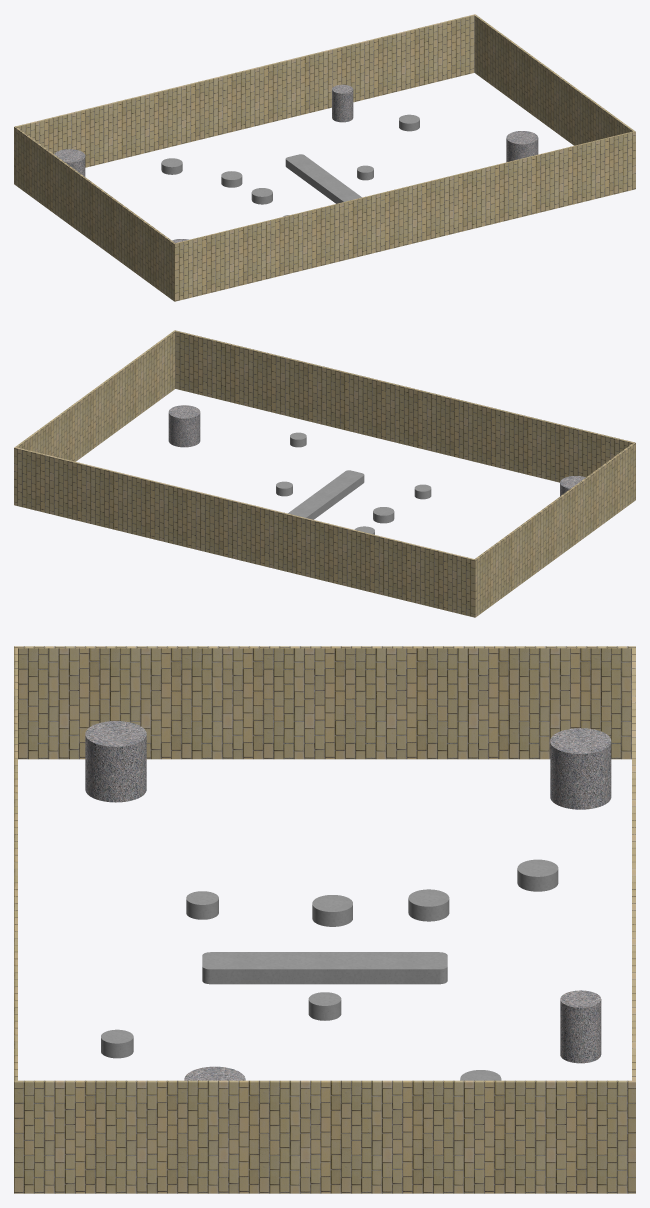
The model's file is envD.dae.
3 renders of one model, top to bottom at view 1: azimuth 30°, elevation 25°; view 2: azimuth 150°, elevation 25°; view 3: azimuth 270°, elevation 25°, orthographic. The views are drawn at different scales.
Parts seen in each view (by area): view 1: stitch_result_stitchFBXASC032all_ncl1_8, stitch_result_stitchFBXASC032all_ncl1_1, stitch_result_stitchFBXASC032all_ncl1_2, stitch_result_stitchFBXASC032all_ncl1_4, stitch_result_stitchFBXASC032all_ncl1_7; view 2: stitch_result_stitchFBXASC032all_ncl1_8, stitch_result_stitchFBXASC032all_ncl1_1, stitch_result_stitchFBXASC032all_ncl1_2; view 3: stitch_result_stitchFBXASC032all_ncl1_8, stitch_result_stitchFBXASC032all_ncl1_1, stitch_result_stitchFBXASC032all_ncl1_7, stitch_result_stitchFBXASC032all, stitch_result_stitchFBXASC032all_ncl1_4, stitch_result_stitchFBXASC032all_ncl1_9, stitch_result_stitchFBXASC032all_ncl1_5, stitch_result_stitchFBXASC032all_ncl1_10, stitch_result_stitchFBXASC032all_ncl1_6, stitch_result_stitchFBXASC032all_ncl1_12, stitch_result_stitchFBXASC032all_ncl1_11.
Boxes of the visible parts, bbox=[...] form: stitch_result_stitchFBXASC032all_ncl1_8: bbox=[14, 14, 635, 301]; stitch_result_stitchFBXASC032all_ncl1_1: bbox=[285, 154, 361, 203]; stitch_result_stitchFBXASC032all_ncl1_2: bbox=[506, 131, 538, 162]; stitch_result_stitchFBXASC032all_ncl1_4: bbox=[332, 84, 353, 122]; stitch_result_stitchFBXASC032all_ncl1_7: bbox=[54, 149, 85, 176]; stitch_result_stitchFBXASC032all_ncl1_8: bbox=[14, 330, 635, 617]; stitch_result_stitchFBXASC032all_ncl1_1: bbox=[288, 470, 364, 519]; stitch_result_stitchFBXASC032all_ncl1_2: bbox=[168, 405, 200, 447]; stitch_result_stitchFBXASC032all_ncl1_8: bbox=[14, 646, 635, 1193]; stitch_result_stitchFBXASC032all_ncl1_1: bbox=[202, 952, 447, 984]; stitch_result_stitchFBXASC032all_ncl1_7: bbox=[550, 728, 611, 809]; stitch_result_stitchFBXASC032all: bbox=[85, 721, 146, 802]; stitch_result_stitchFBXASC032all_ncl1_4: bbox=[560, 990, 601, 1063]; stitch_result_stitchFBXASC032all_ncl1_9: bbox=[517, 859, 558, 891]; stitch_result_stitchFBXASC032all_ncl1_5: bbox=[408, 889, 449, 921]; stitch_result_stitchFBXASC032all_ncl1_10: bbox=[312, 895, 352, 926]; stitch_result_stitchFBXASC032all_ncl1_6: bbox=[308, 992, 341, 1020]; stitch_result_stitchFBXASC032all_ncl1_12: bbox=[101, 1029, 133, 1058]; stitch_result_stitchFBXASC032all_ncl1_11: bbox=[186, 891, 218, 919].
Bounding box in the file's own units: 126 × 76 × 15.
Materials: 3 (3 with a texture image).
